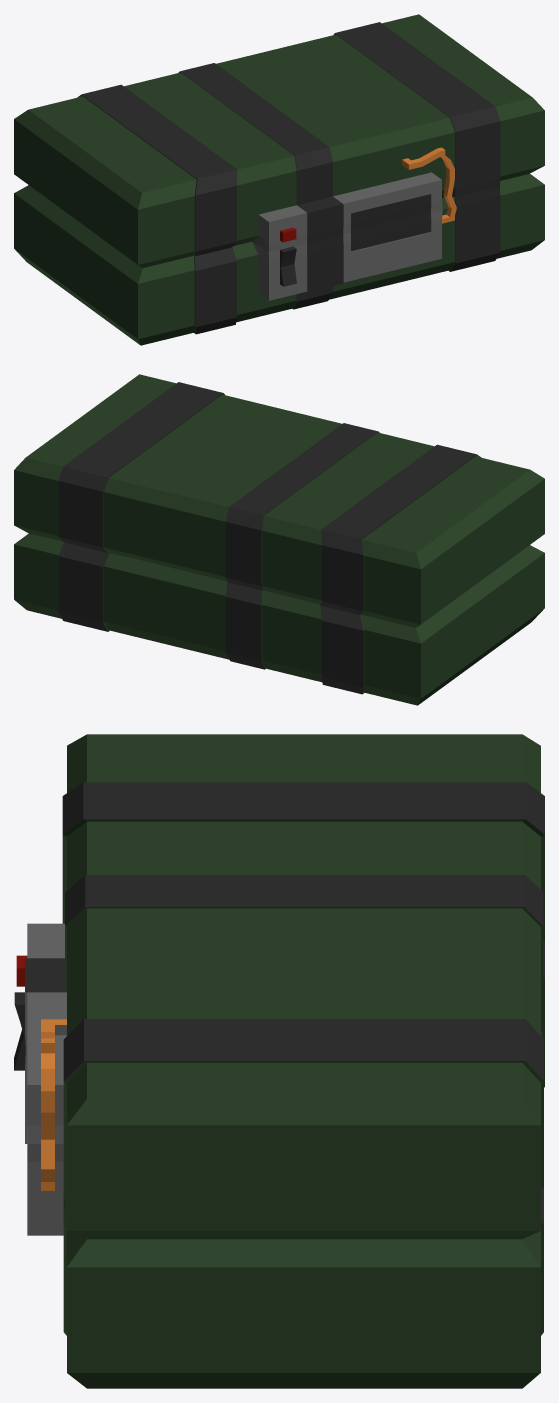
The model's file is c4-charge.fbx.
The picture shows the model from 3 angles, top to bottom: view 1: azimuth 30°, elevation 25°; view 2: azimuth 150°, elevation 25°; view 3: azimuth 270°, elevation 25°; orthographic projection. The views are drawn at different scales.
Visible parts, largest first — view 1: Cube; view 2: Cube; view 3: Cube.
Boxes of the visible parts, x1=… form: Cube: x1=14, y1=14, x2=544, y2=345; Cube: x1=14, y1=374, x2=544, y2=705; Cube: x1=14, y1=734, x2=544, y2=1388.
Bounding box in the file's own units: 781 × 284 × 462.
